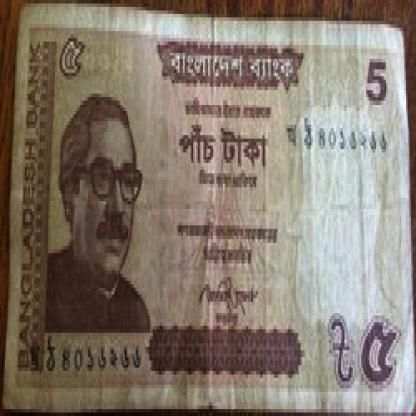Five Taka: (172, 118, 274, 173), (358, 298, 401, 402), (52, 24, 88, 104), (356, 48, 394, 114)
